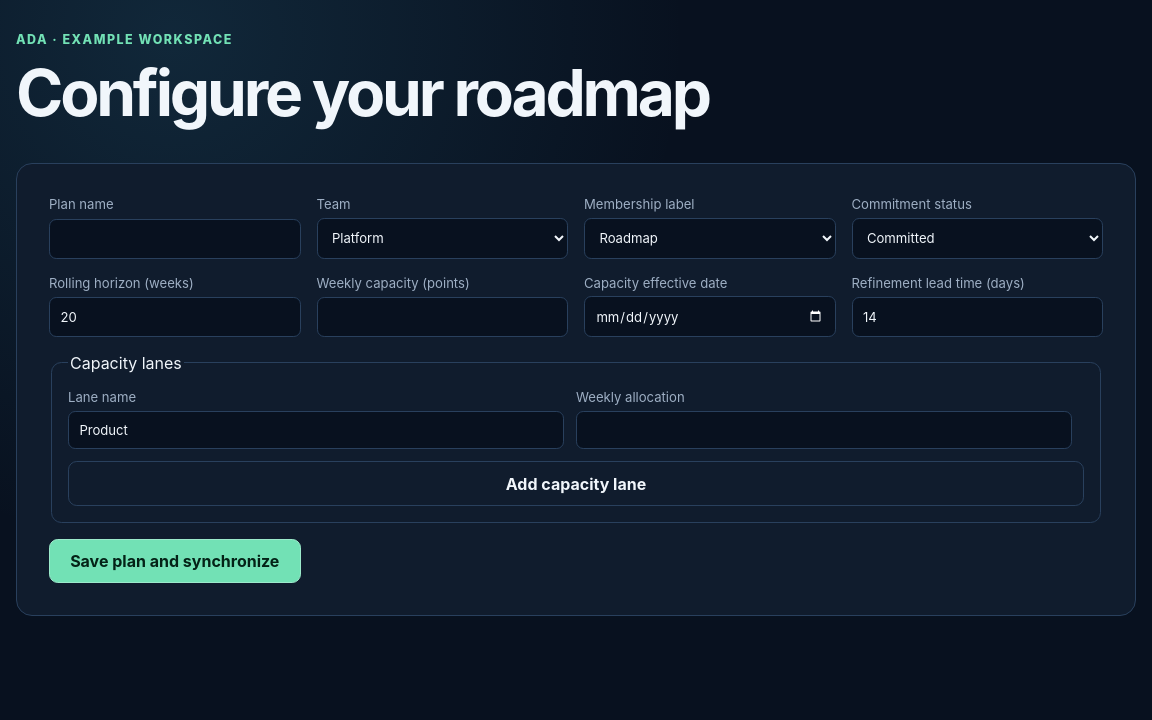
Test: PlanSetup › collects a complete configurable plan and supports multiple lanes
The image size is (1152, 720).
Expected: the heading "Configure your roadmap" is shown, [16, 54, 709, 131]
Expected: the text "Ada · Example Workspace" is shown, [16, 32, 233, 47]
Click the button "Add capacity lane" at (576, 484), box [68, 461, 1084, 506]
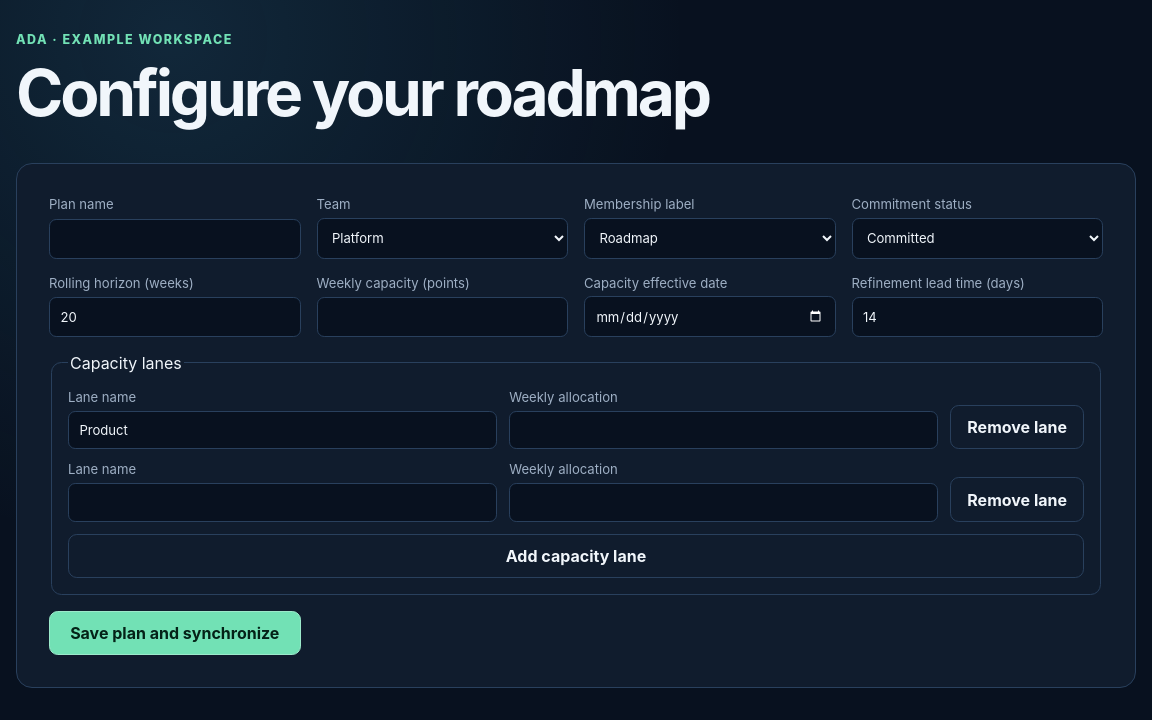
Expected: the number of fields labelled "Lane name" is 2, [68, 410, 497, 449]; [68, 483, 497, 522]
